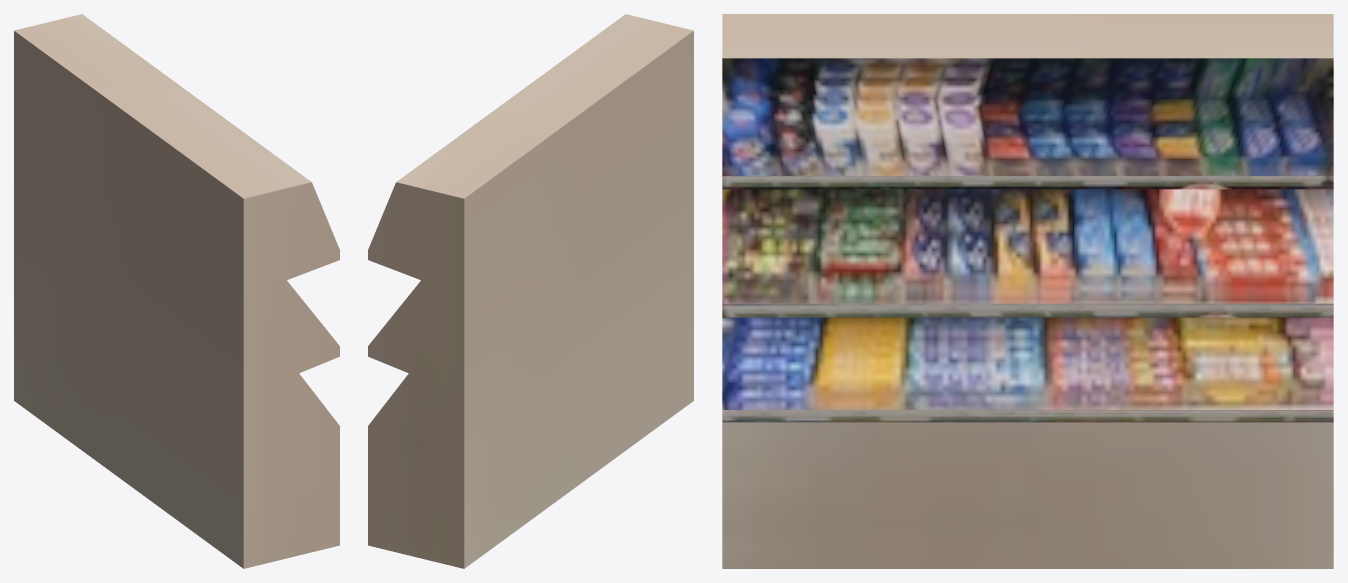
Rendered from shelves.fbx.
3 renders of one model, left to right at view 1: azimuth 30°, elevation 25°; view 2: azimuth 150°, elevation 25°; view 3: azimuth 270°, elevation 25°, orthographic. The views are drawn at different scales.
Parts seen in each view (by area): view 1: Cube; view 2: Cube; view 3: Cube.
Boxes of the visible parts, x1,y1,x2,y2 form: Cube: (14,14,339,568); Cube: (368,14,693,568); Cube: (722,14,1333,568).
Bounding box in the file's own units: 260 × 957 × 1077.
1 material, 1 textured.
